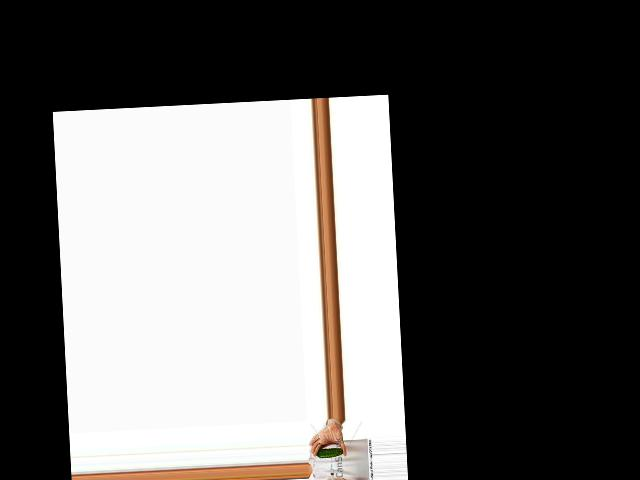cucumber: (316, 446, 344, 457)
